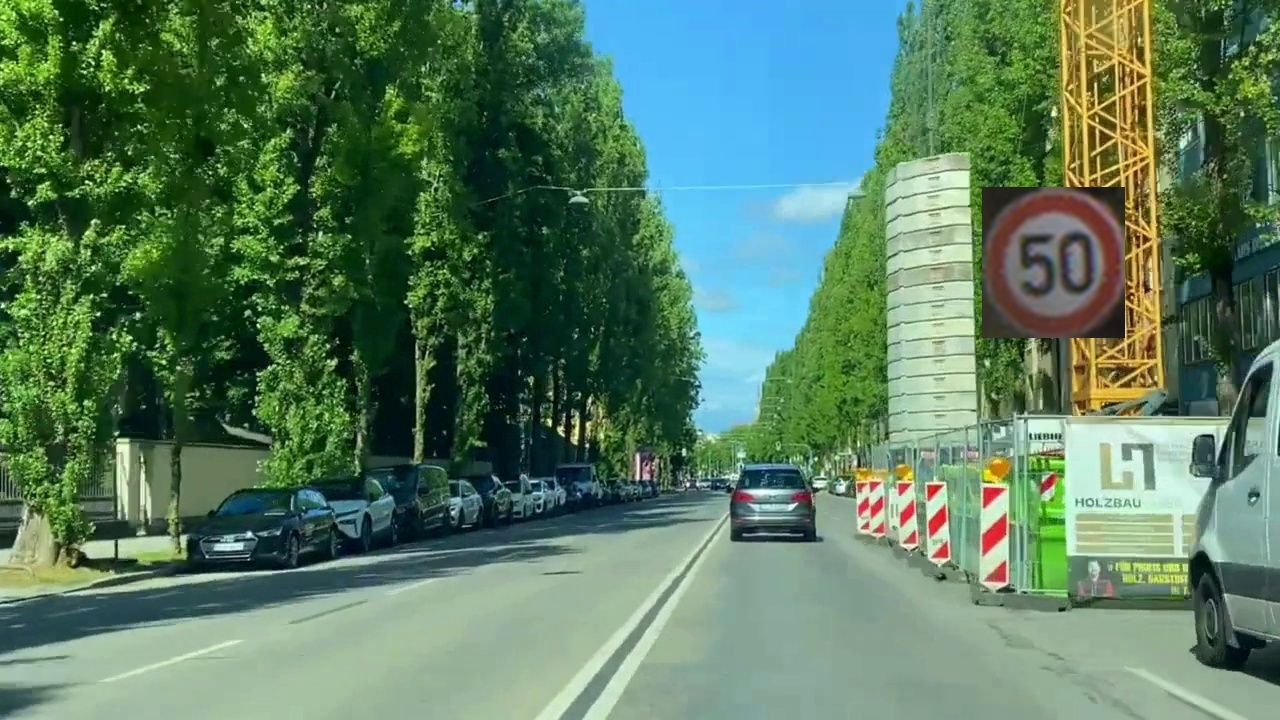Speed 50: (982, 187, 1125, 338)
